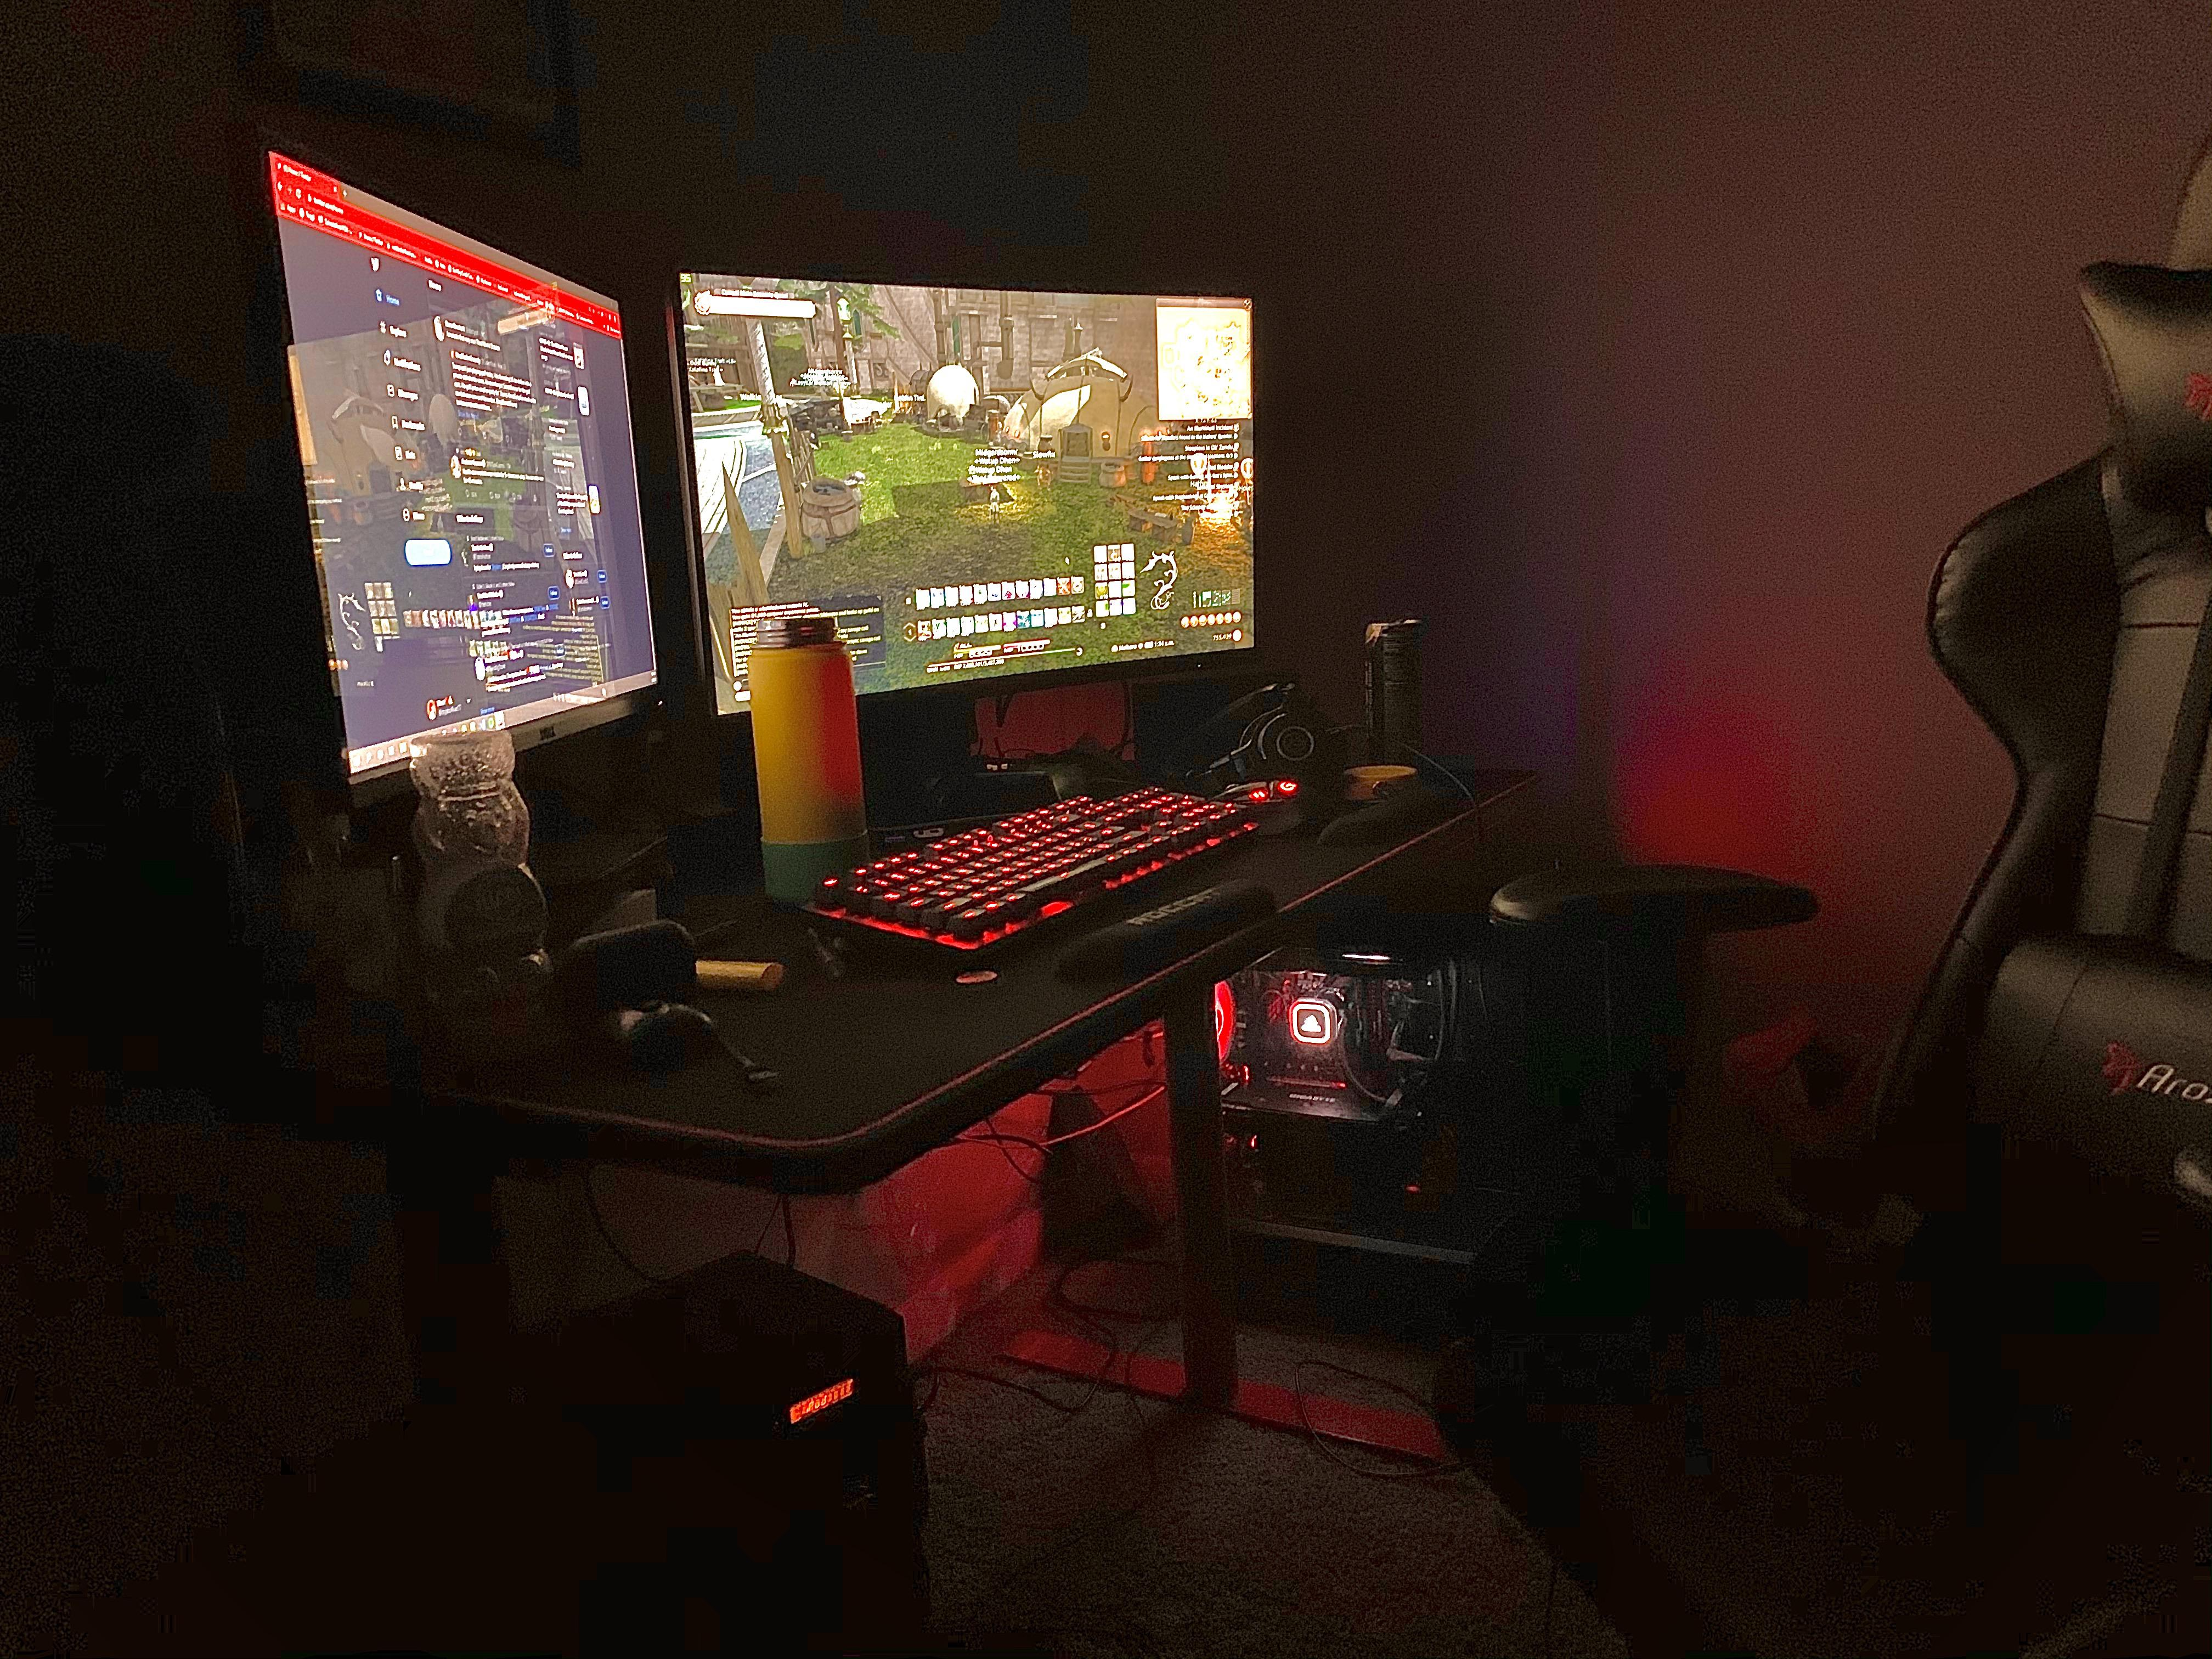Chair (Gaming): (1597, 277, 2203, 1659)
Desk (Generic): (37, 713, 1573, 1183)
Desktop (Windows): (1197, 911, 1527, 1166)
Headphones: (1144, 690, 1359, 791)
Keyboard (Gaming): (780, 779, 1254, 967)
Monitor (Landscape): (249, 157, 683, 739), (678, 272, 1258, 667)
Mouse (Gaming): (1207, 767, 1332, 842)
Mousepad (Gaming): (421, 735, 1486, 1131)
Water Bottle: (738, 601, 894, 910)
